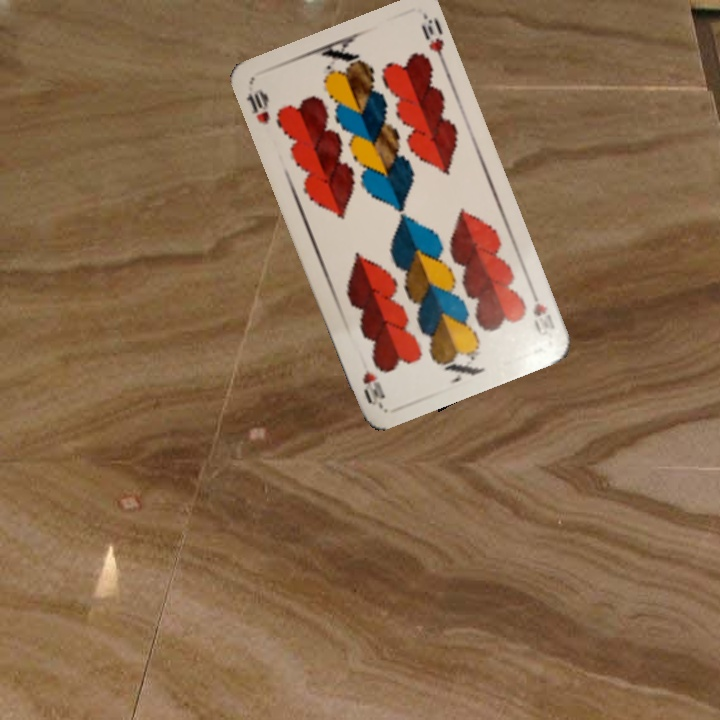H10: (525, 283, 558, 340), (242, 85, 272, 127)
